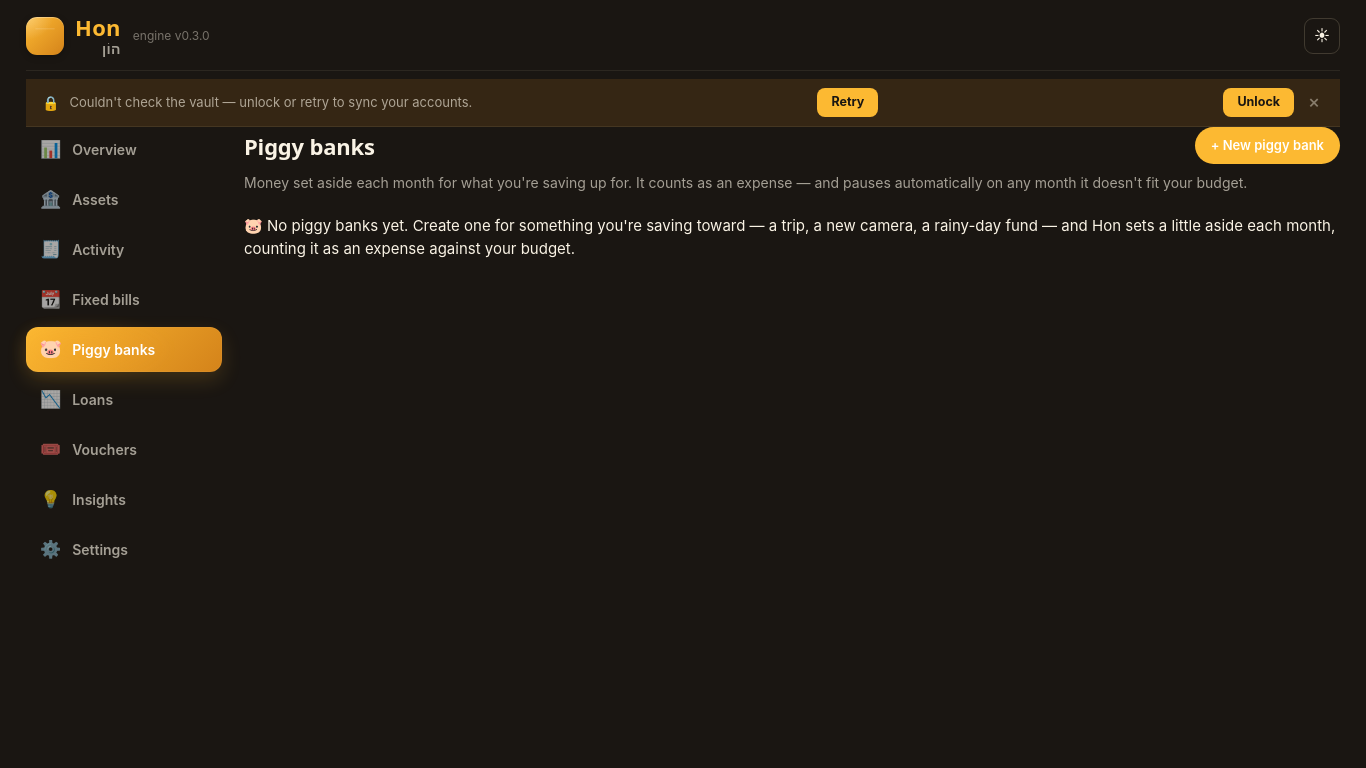
Test case: App — tab routing › switches to the Activity tab on click
Click the tab "🧾 Activity". click: {"x": 124, "y": 249}
box: [26, 227, 222, 272]
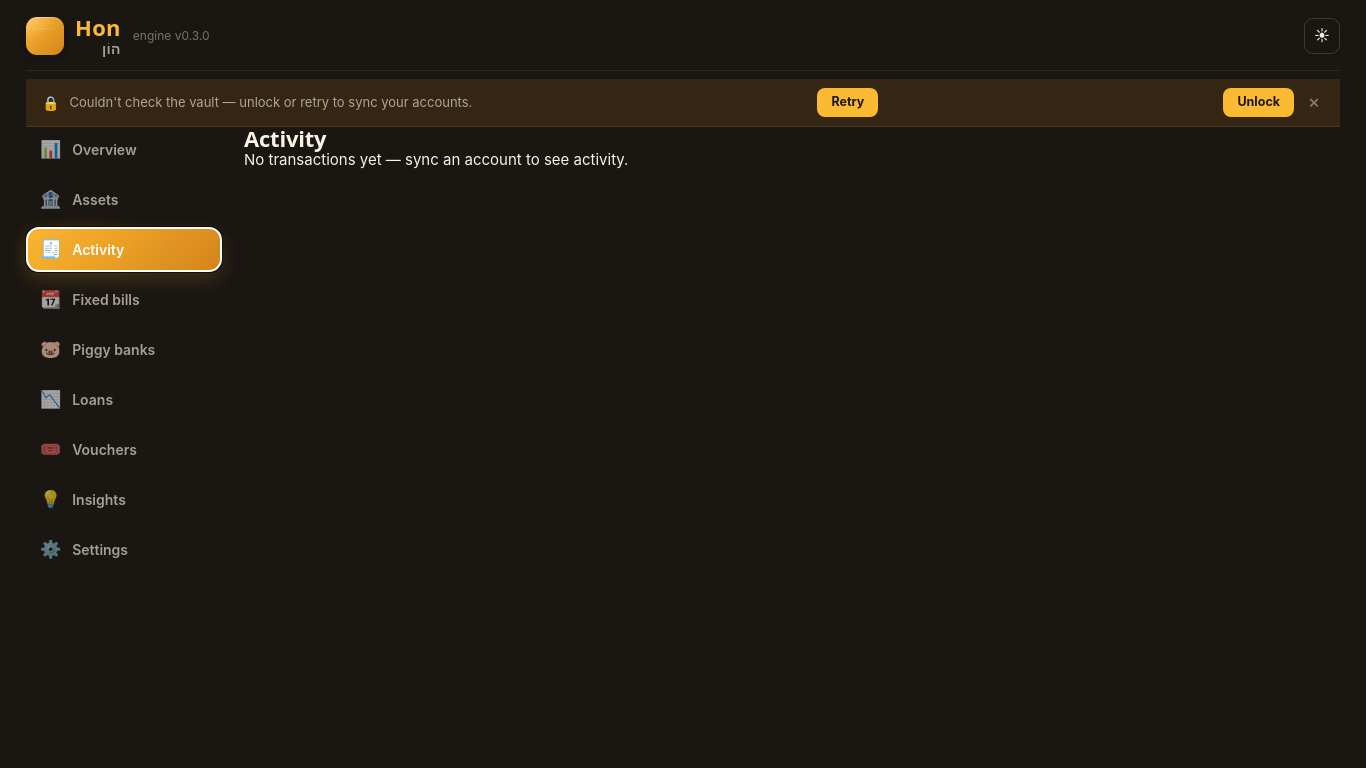
Expected: the heading "Activity" is shown, [244, 123, 326, 153]
